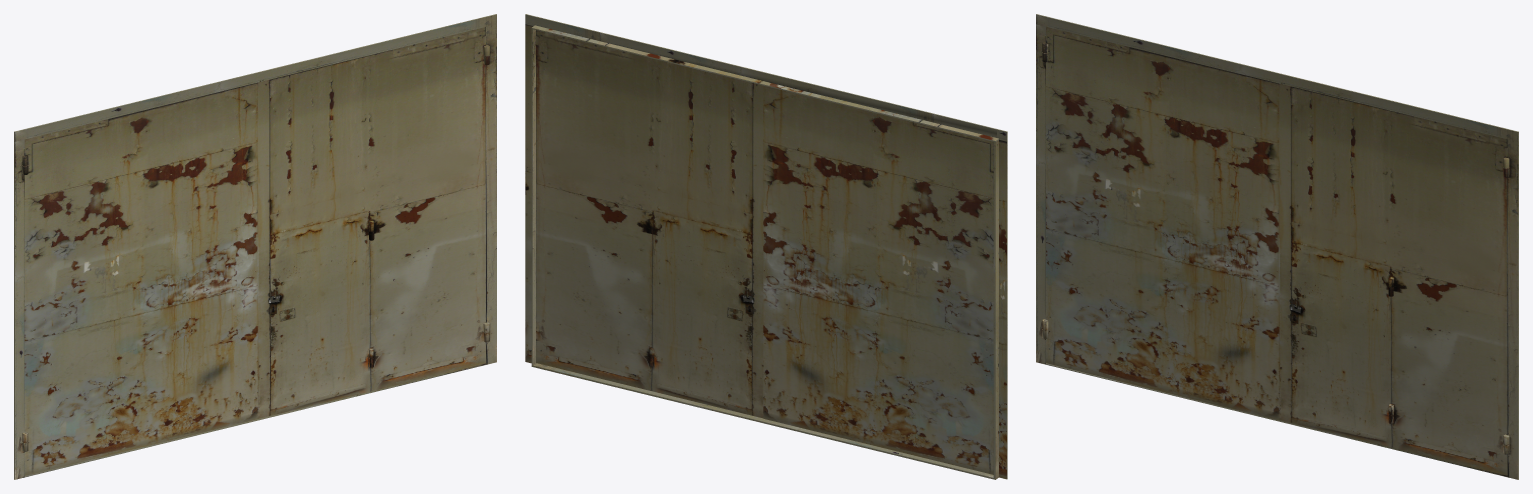
Rendered from LargeGates1.FBX.
3 renders of one model, left to right at view 1: azimuth 30°, elevation 25°; view 2: azimuth 150°, elevation 25°; view 3: azimuth 330°, elevation 25°, orthographic.
Visible parts, largest first — view 1: GatesDoorLeft, GatesDoorRight, GatesDoorSmall, GatesBorder; view 2: GatesDoorLeft, GatesDoorRight, GatesDoorSmall, GatesBorder; view 3: GatesDoorLeft, GatesDoorRight, GatesDoorSmall, GatesBorder.
Boxes of the visible parts, box(x1,y1,x2,y2) form: GatesDoorLeft: box(22, 82, 258, 475); GatesDoorRight: box(258, 27, 489, 418); GatesDoorSmall: box(268, 210, 374, 413); GatesBorder: box(14, 14, 496, 479); GatesDoorLeft: box(763, 85, 993, 474); GatesDoorRight: box(536, 30, 763, 418); GatesDoorSmall: box(651, 210, 753, 412); GatesBorder: box(525, 14, 1007, 479); GatesDoorLeft: box(1042, 26, 1279, 419); GatesDoorRight: box(1279, 84, 1509, 475); GatesDoorSmall: box(1289, 241, 1393, 444); GatesBorder: box(1036, 14, 1518, 479).
Bounding box in the file's own units: 578 × 398 × 13.38.
